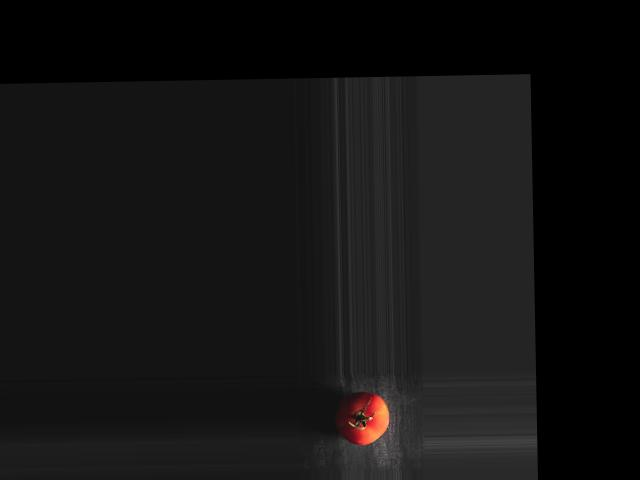tomato: (335, 391, 389, 445)
